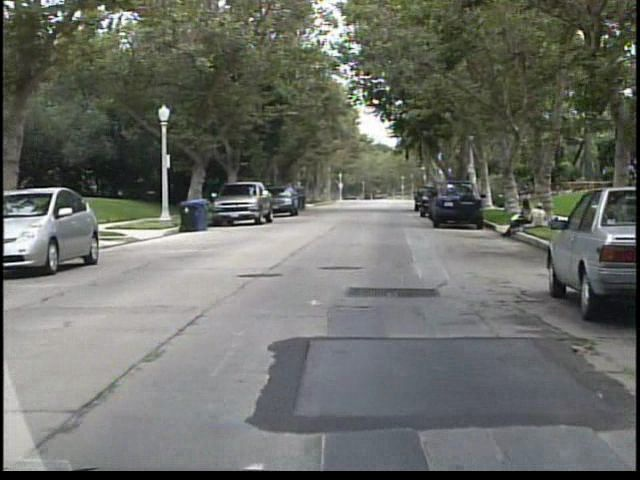person: (502, 197, 536, 241), (520, 202, 547, 236)
